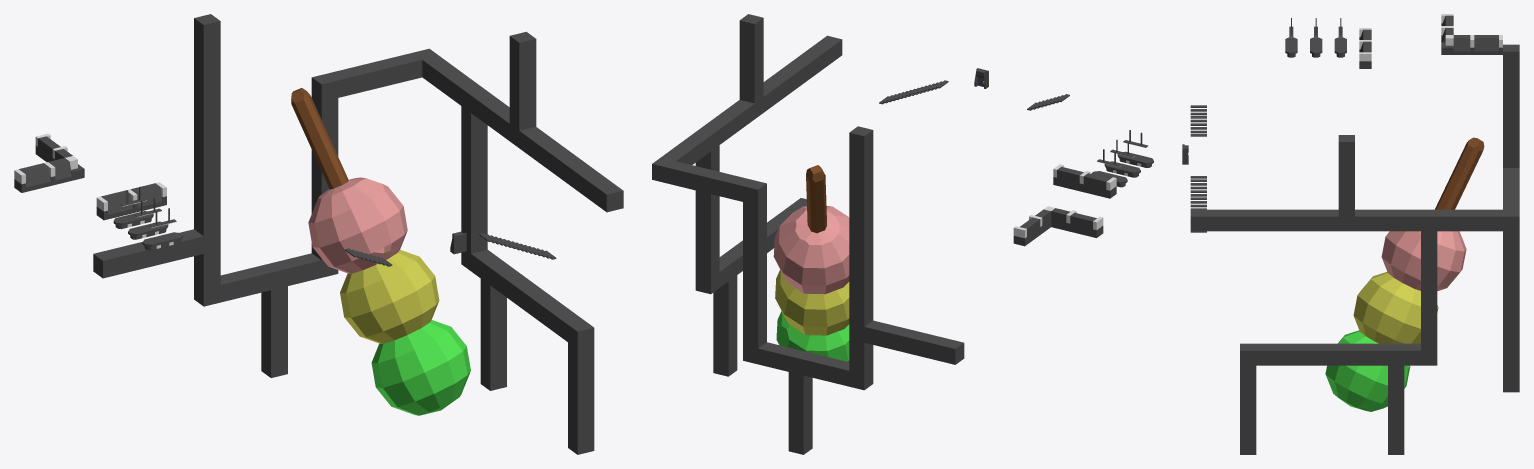
File: dangomap_detail.obj
3 renders of one model, left to right at view 1: azimuth 30°, elevation 25°; view 2: azimuth 150°, elevation 25°; view 3: azimuth 270°, elevation 25°, orthographic. The views are drawn at different scales.
Visible parts, largest first — view 1: bsp_model_0; view 2: bsp_model_0; view 3: bsp_model_0.
Part boxes in pixels (left/top/right/bottom): bsp_model_0: left=14, top=14, right=623, bottom=454; bsp_model_0: left=652, top=14, right=1153, bottom=454; bsp_model_0: left=1182, top=14, right=1519, bottom=454.
Size of the model in its own units: 10800 by 8400 by 8200.
